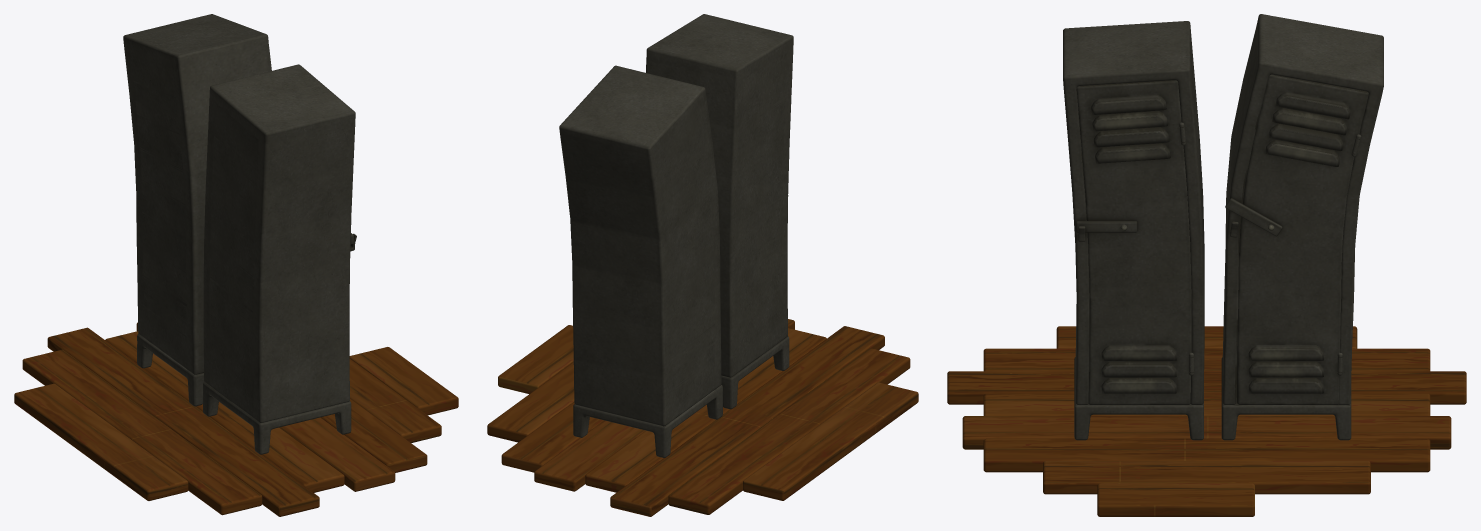
Rendered from lilnightmares3.fbx.
3 views of the same model, side by side, from view 1: azimuth 30°, elevation 25°; view 2: azimuth 150°, elevation 25°; view 3: azimuth 270°, elevation 25° (orthographic). The views are drawn at different scales.
Visible parts, largest first — view 1: Cube, Cube.054, Cube.023, Cube.001, Cube.022, Cube.002, Cube.021; view 2: Cube.023, Cube.054, Cube, Cube.022, Cube.001, Cube.021, Cube.002; view 3: Cube.054, Cube.022, Cube.001, Cube.023, Cube, Cube.021, Cube.002, Cube.006, Cube.019, Cube.008, Cube.011, Cube.009 (+11 smaller).
Part boxes in pixels (x1,y1,x2,y2): Cube: (203,64,355,422); Cube.054: (14,322,458,516); Cube.023: (123,14,271,374); Cube.001: (209,103,258,416); Cube.022: (133,66,186,366); Cube.002: (203,382,351,454); Cube.021: (137,334,204,406); Cube.023: (559,65,721,426); Cube.054: (487,319,918,516); Cube: (646,14,793,377); Cube.022: (658,105,714,420); Cube.001: (737,60,786,371); Cube.021: (573,385,722,457); Cube.002: (721,336,789,409); Cube.054: (947,326,1466,516); Cube.022: (1237,74,1368,404); Cube.001: (1076,80,1191,404); Cube.023: (1222,14,1383,404); Cube: (1063,21,1204,404); Cube.021: (1221,357,1351,440); Cube.002: (1074,357,1203,440); Cube.006: (1101,361,1176,377); Cube.019: (1248,361,1323,377); Cube.008: (1092,111,1167,131); Cube.011: (1095,143,1170,163); Cube.009: (1091,94,1166,114).
Bounding box in the file's own units: 728 × 738 × 889.
